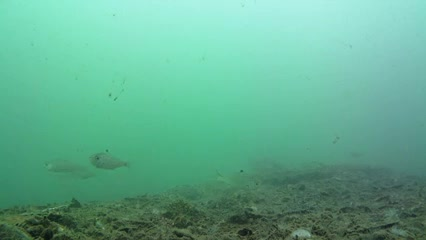smallfish: (92, 148, 133, 177), (37, 156, 90, 174)
